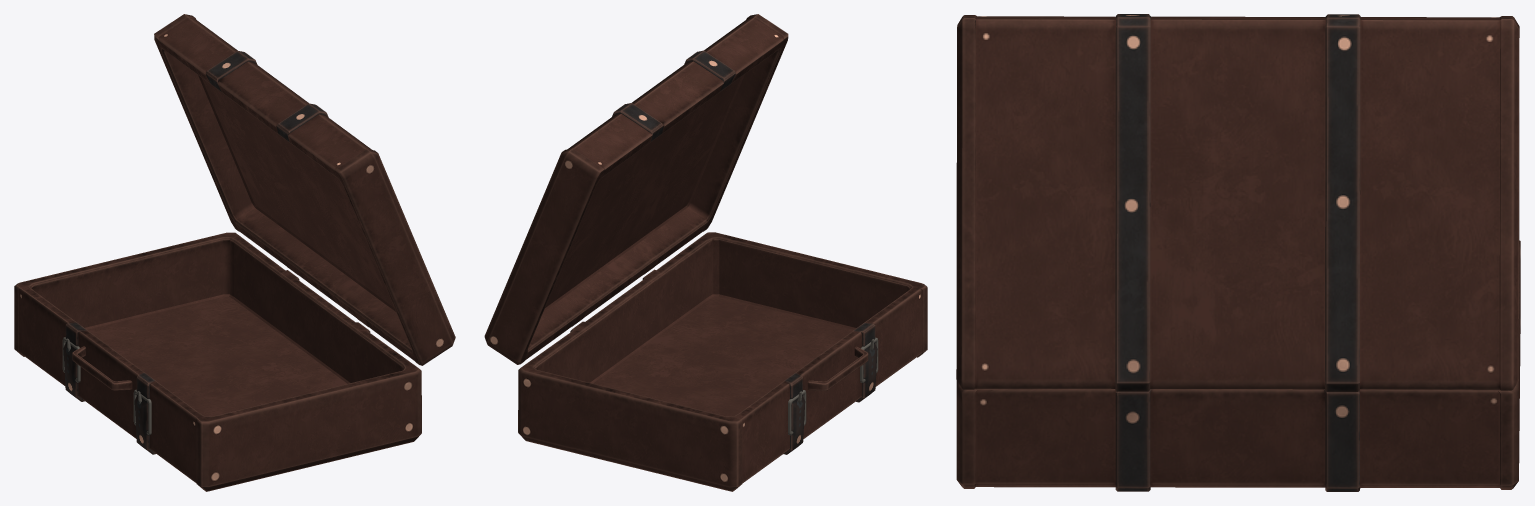
Rendered from Suitcase_0.glb.
3 views of the same model, side by side, from view 1: azimuth 30°, elevation 25°; view 2: azimuth 150°, elevation 25°; view 3: azimuth 270°, elevation 25° (orthographic). The views are drawn at different scales.
Visible parts, largest first — view 1: Object_3; view 2: Object_3; view 3: Object_3.
Boxes of the visible parts, box(x1,y1,x2,y2) form: Object_3: box(14, 14, 455, 491); Object_3: box(484, 14, 927, 491); Object_3: box(956, 14, 1520, 491).
Bounding box in the file's own units: 5.32 × 5.67 × 6.55.
1 material, 1 textured.
